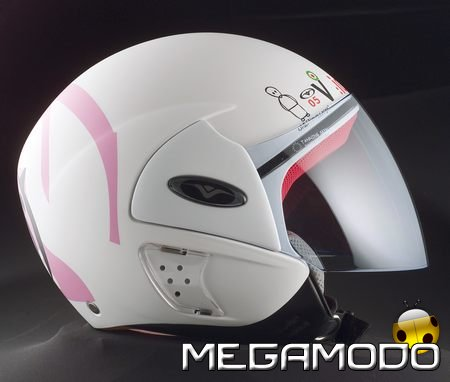helmet: (21, 42, 429, 324)
